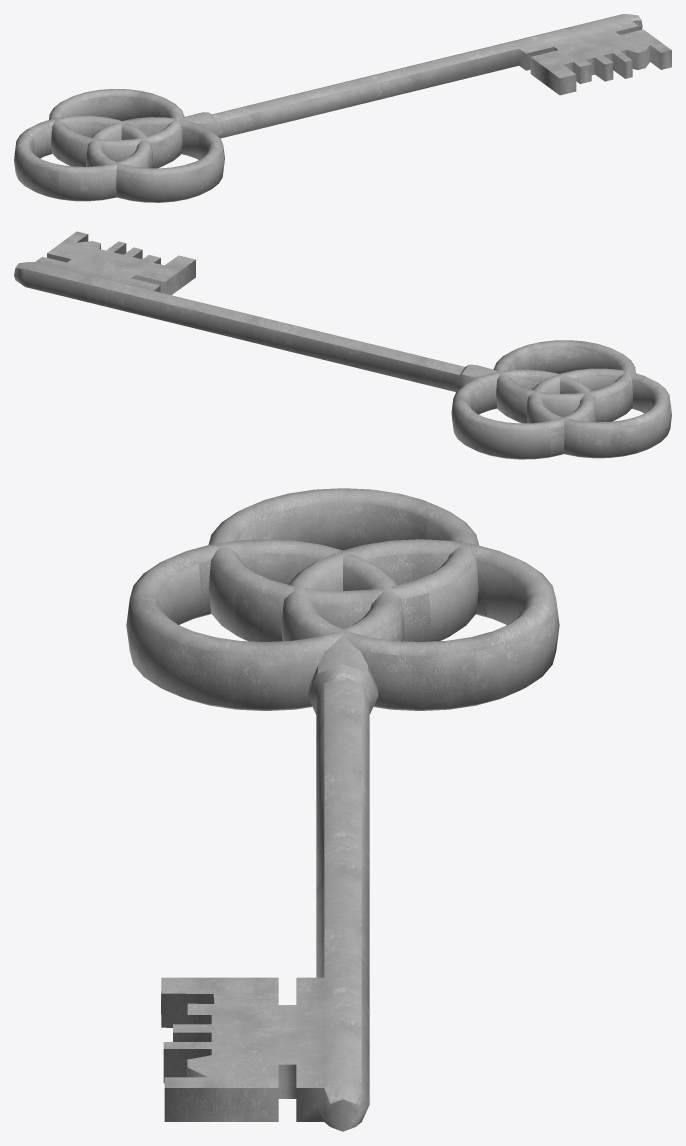
Rendered from key11.FBX.
3 renders of one model, top to bottom at view 1: azimuth 30°, elevation 25°; view 2: azimuth 150°, elevation 25°; view 3: azimuth 270°, elevation 25°, orthographic. The views are drawn at different scales.
Visible parts, largest first — view 1: Cylinder001; view 2: Cylinder001; view 3: Cylinder001.
Boxes of the visible parts, x1,y1,x2,y2 form: Cylinder001: [14, 14, 671, 202]; Cylinder001: [14, 231, 671, 459]; Cylinder001: [126, 488, 559, 1131].
Bounding box in the file's own units: 145 × 7.3 × 44.37.
